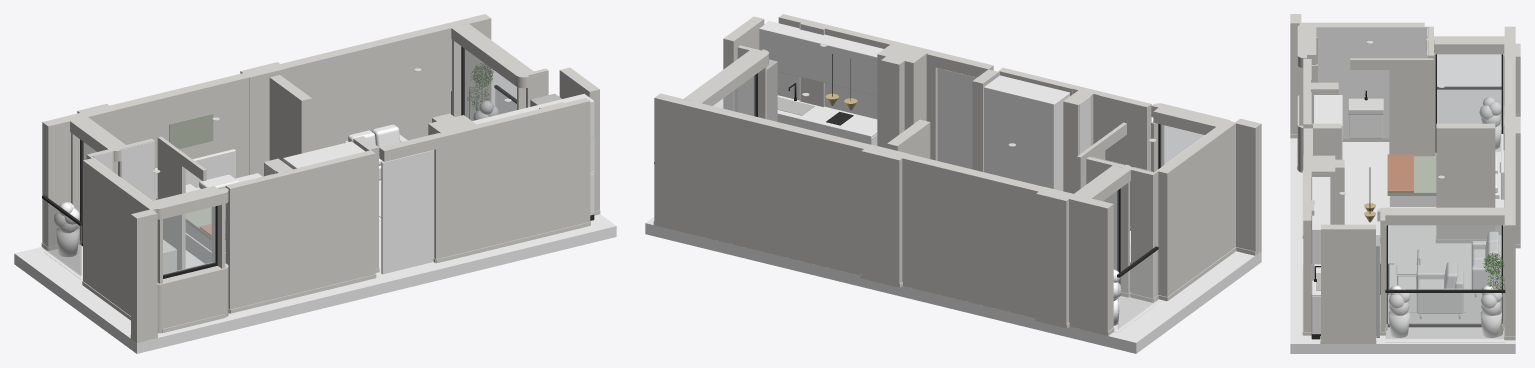
The model's file is interior_501B.glb.
3 views of the same model, side by side, from view 1: azimuth 30°, elevation 25°; view 2: azimuth 150°, elevation 25°; view 3: azimuth 270°, elevation 25° (orthographic). The views are drawn at different scales.
Parts seen in each view (by area): view 1: MUROS_501B.001; view 2: MUROS_501B.001; view 3: MUROS_501B.001.
Part boxes in pixels (x1,y1,x2,y2): MUROS_501B.001: (14, 14, 616, 353); MUROS_501B.001: (645, 14, 1261, 353); MUROS_501B.001: (1290, 14, 1520, 353).
Size of the model in its own units: 9.27 by 2.65 by 4.19.
